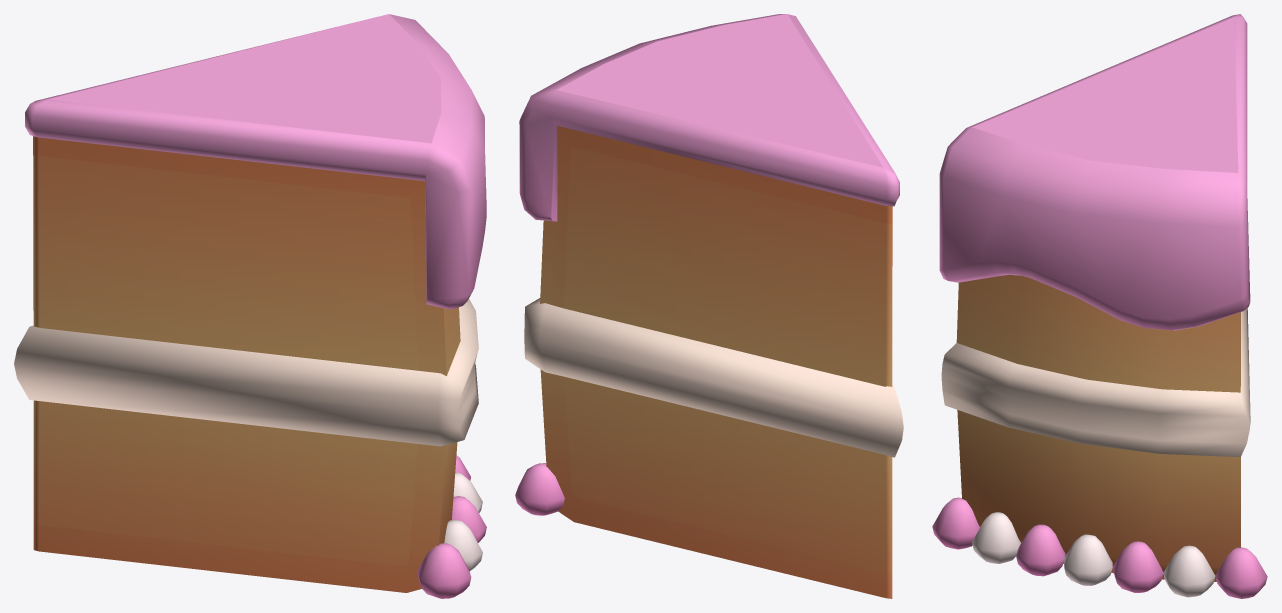
Rendered from Cake_Cherry_Slice_V3_01.fbx.
3 renders of one model, left to right at view 1: azimuth 30°, elevation 25°; view 2: azimuth 150°, elevation 25°; view 3: azimuth 270°, elevation 25°, orthographic. The views are drawn at different scales.
Parts seen in each view (by area): view 1: Cake_Cherry_Slice_V3_01; view 2: Cake_Cherry_Slice_V3_01; view 3: Cake_Cherry_Slice_V3_01.
Boxes of the visible parts, x1,y1,x2,y2 form: Cake_Cherry_Slice_V3_01: (14, 14, 486, 598); Cake_Cherry_Slice_V3_01: (515, 14, 903, 598); Cake_Cherry_Slice_V3_01: (932, 14, 1267, 598).
Bounding box in the file's own units: 33.88 × 35.55 × 25.84.
